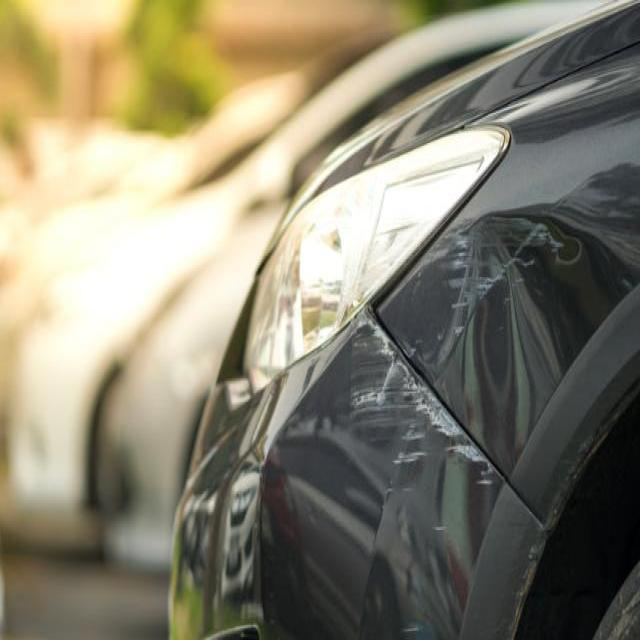Dent: (392, 446, 431, 468)
